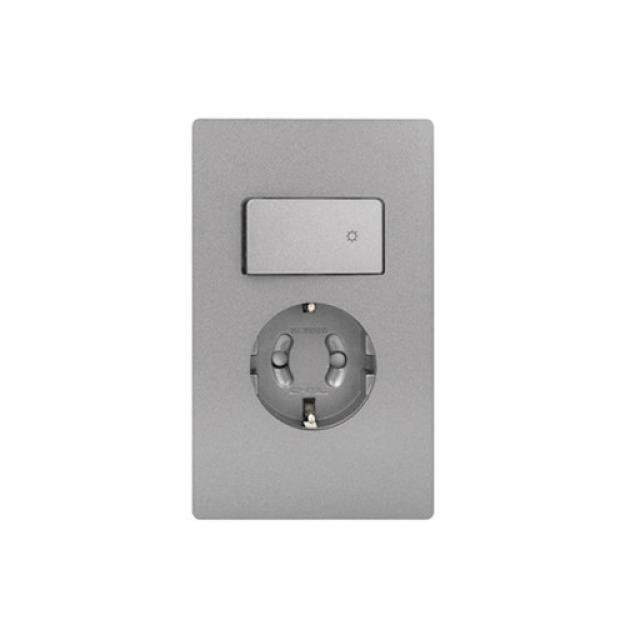typeb: (156, 98, 472, 575)
